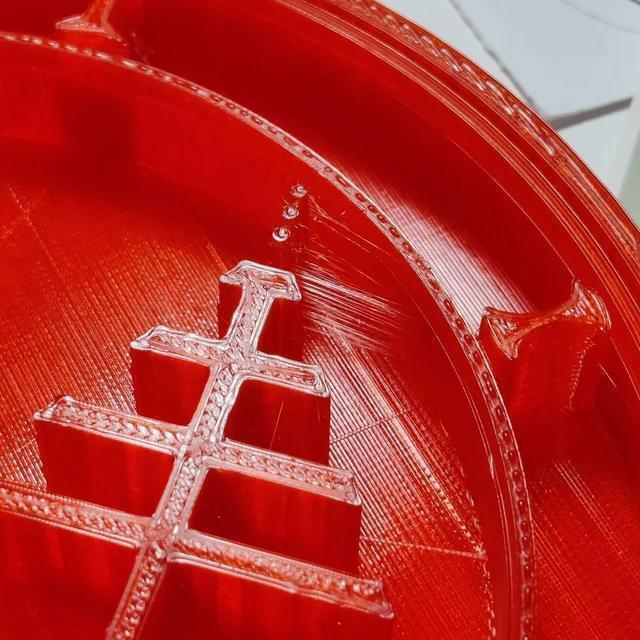Stringing: (306, 263, 417, 369)
